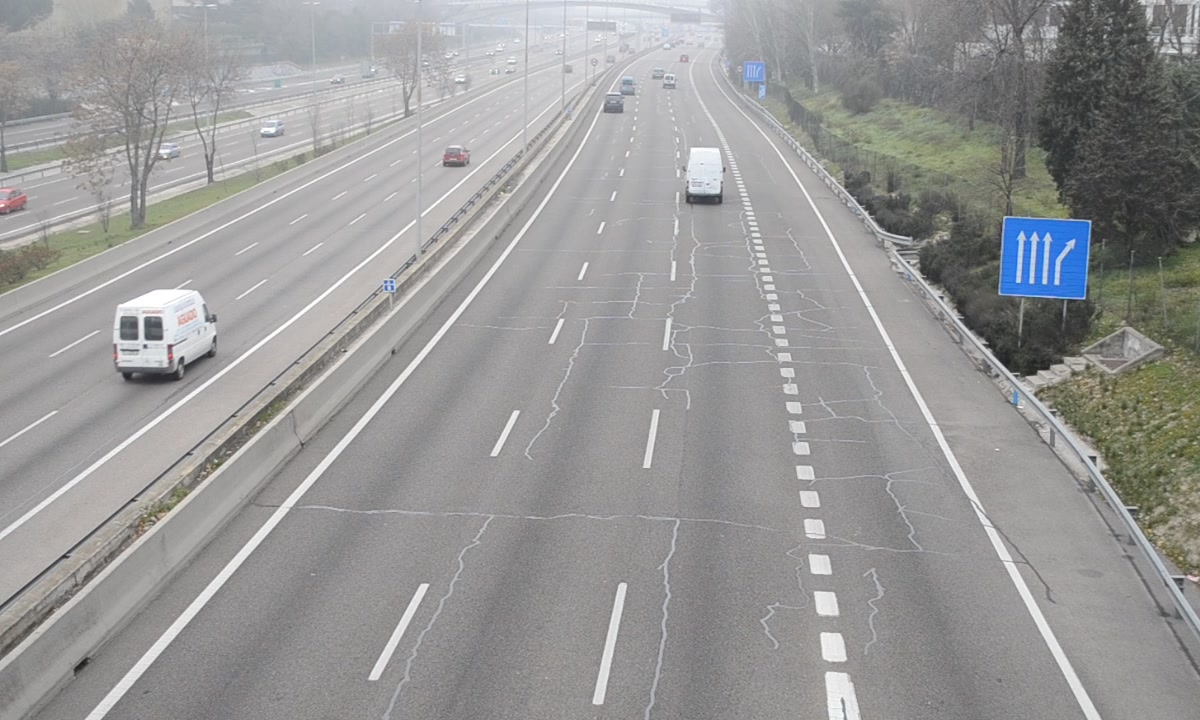van: (685, 147, 727, 202)
